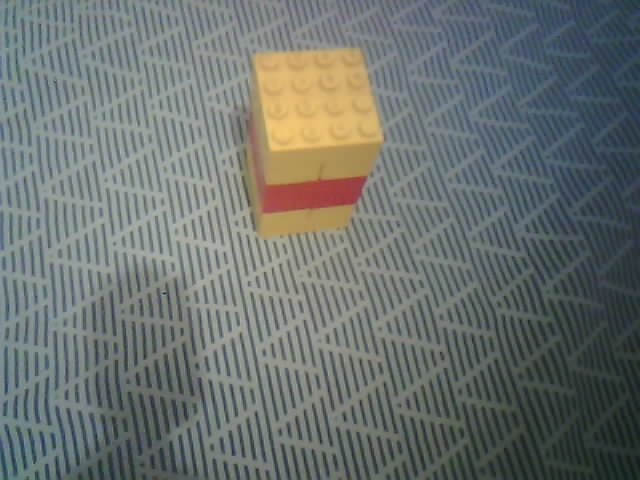lego: (243, 46, 386, 238)
